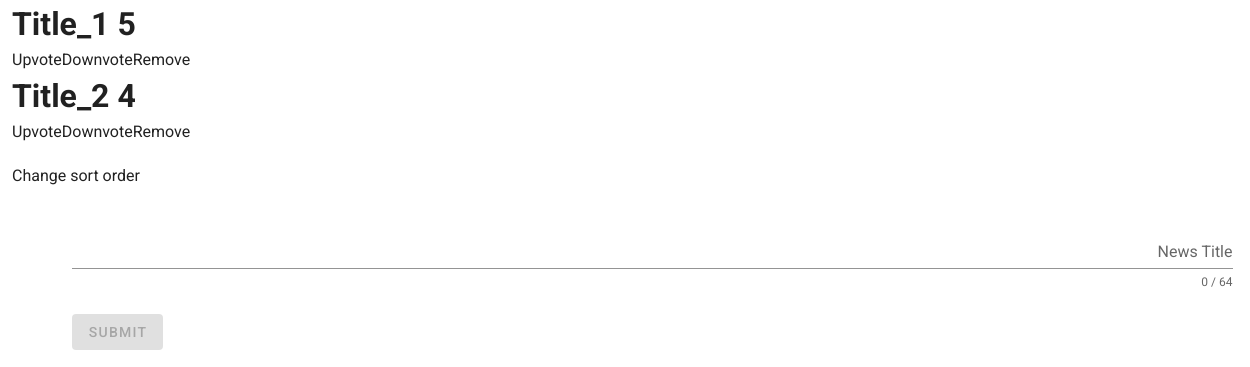
NewsList › should remove an item from its internal array when the user clicks remove
Click the button with class "remove" below "Title_1 5".
click(161, 60)  # box [133,48,190,72]
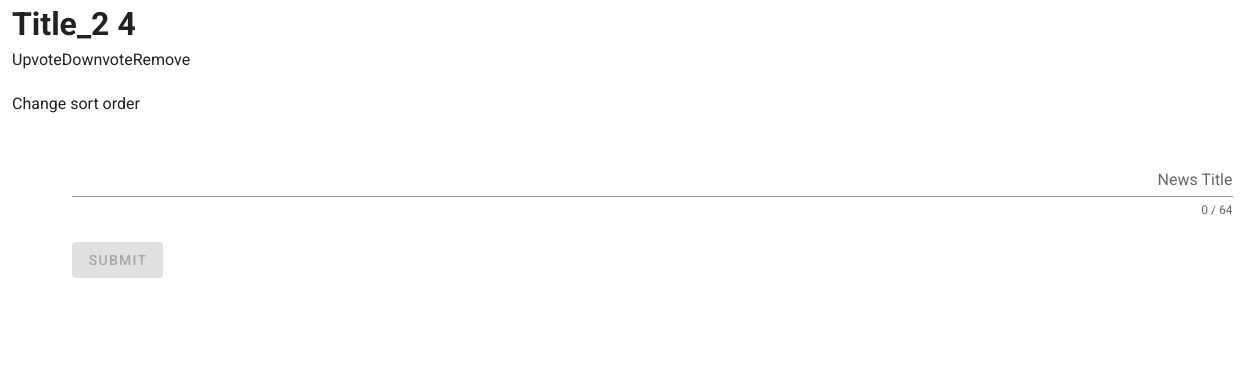
Click the button with class "remove".
click(161, 60)  # box [133,48,190,72]
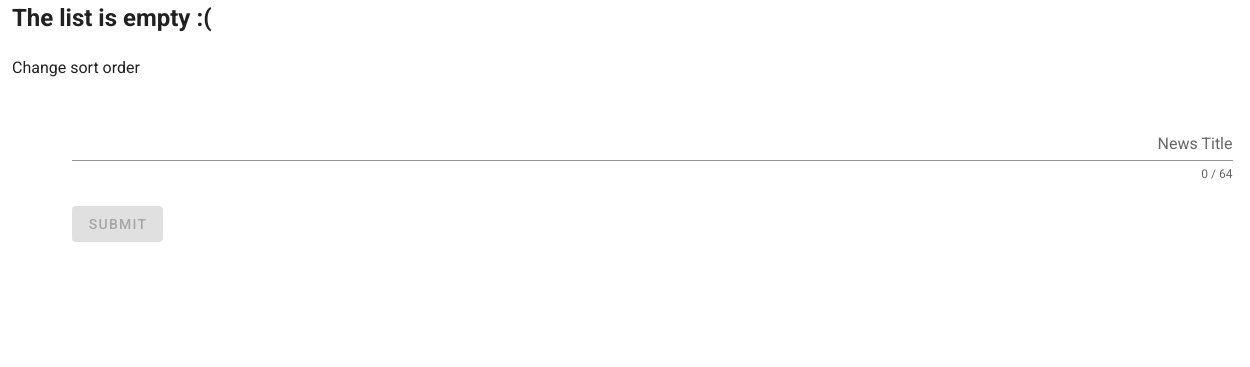
Now the heading "The list is empty :(" is shown, box [12,4,212,32]
